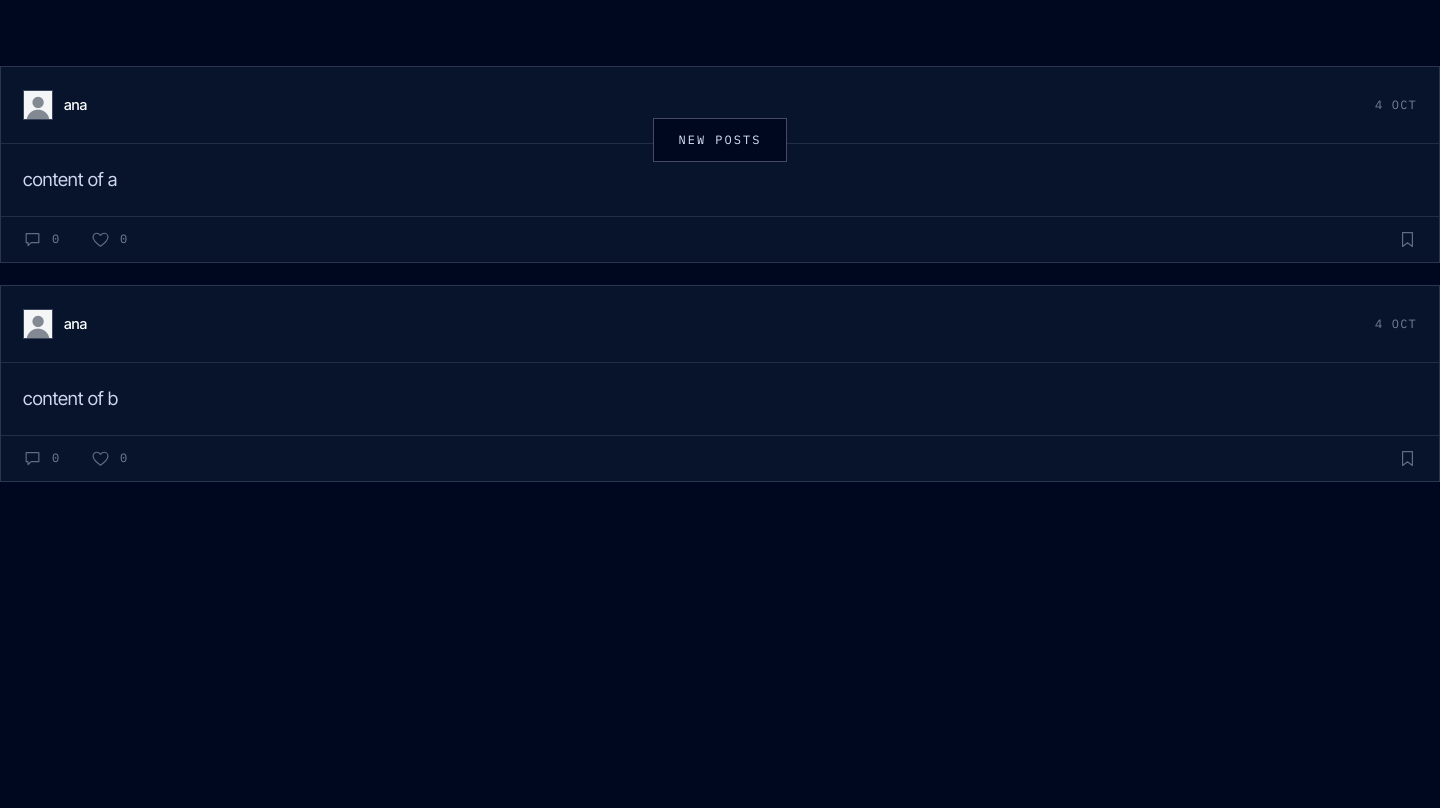
Test: new posts while reading › when the whole page is new › should_reload_the_list_from_the_top_when_the_button_is_pressed
The image size is (1440, 808).
Click the button "NEW POSTS" at (720, 140), box [653, 118, 787, 162]
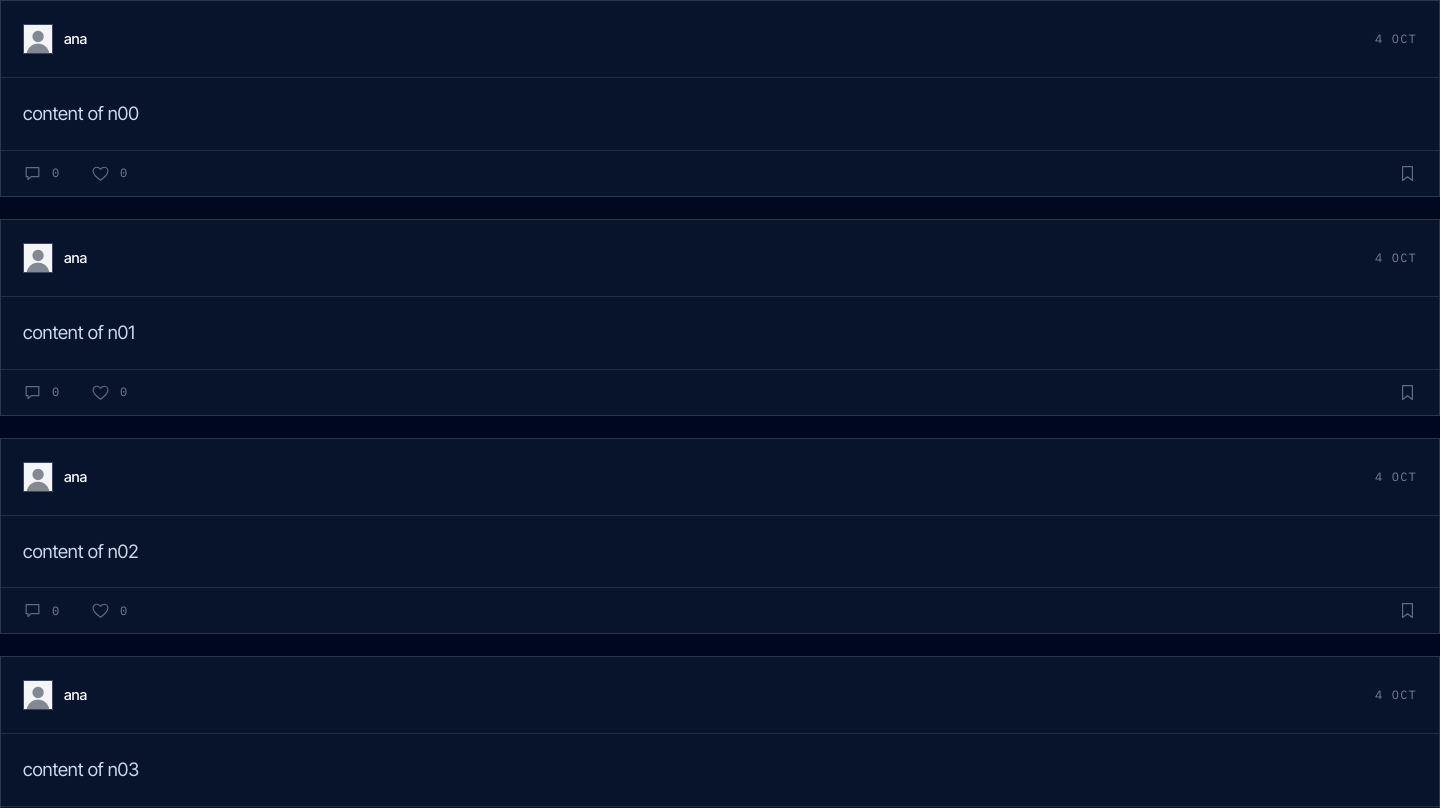
Expected: the text "content of a" is gone
